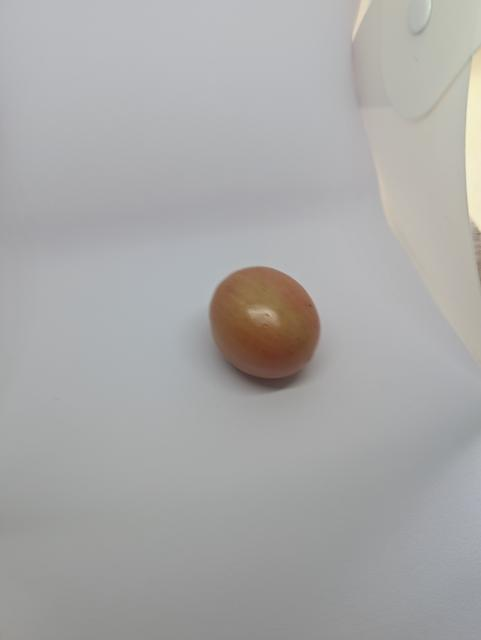turning: (202, 264, 327, 385)
